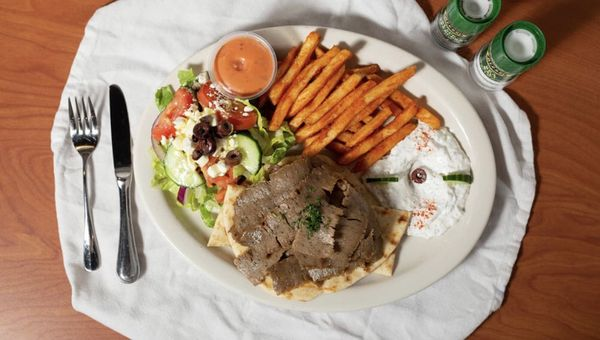burger: (108, 86, 145, 282), (68, 91, 103, 270)
pizza: (471, 19, 547, 92)
